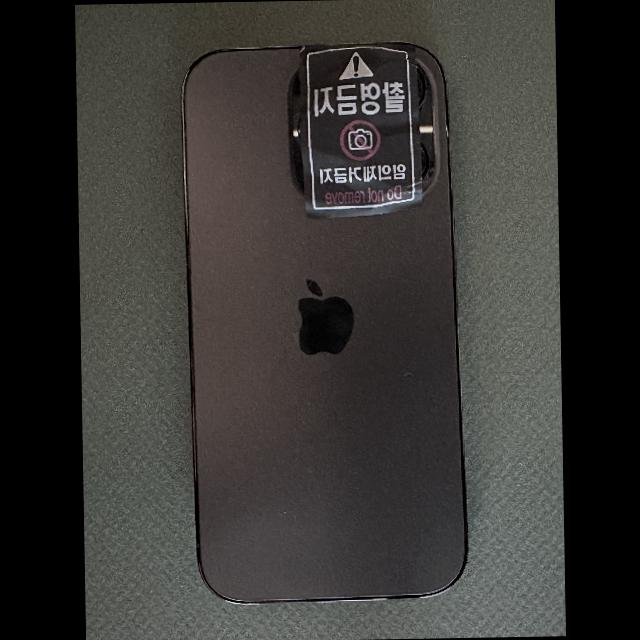lens: (416, 66, 425, 107), (421, 140, 429, 178), (297, 118, 300, 138)
phone: (182, 42, 467, 602)
sticker: (299, 43, 422, 219)
